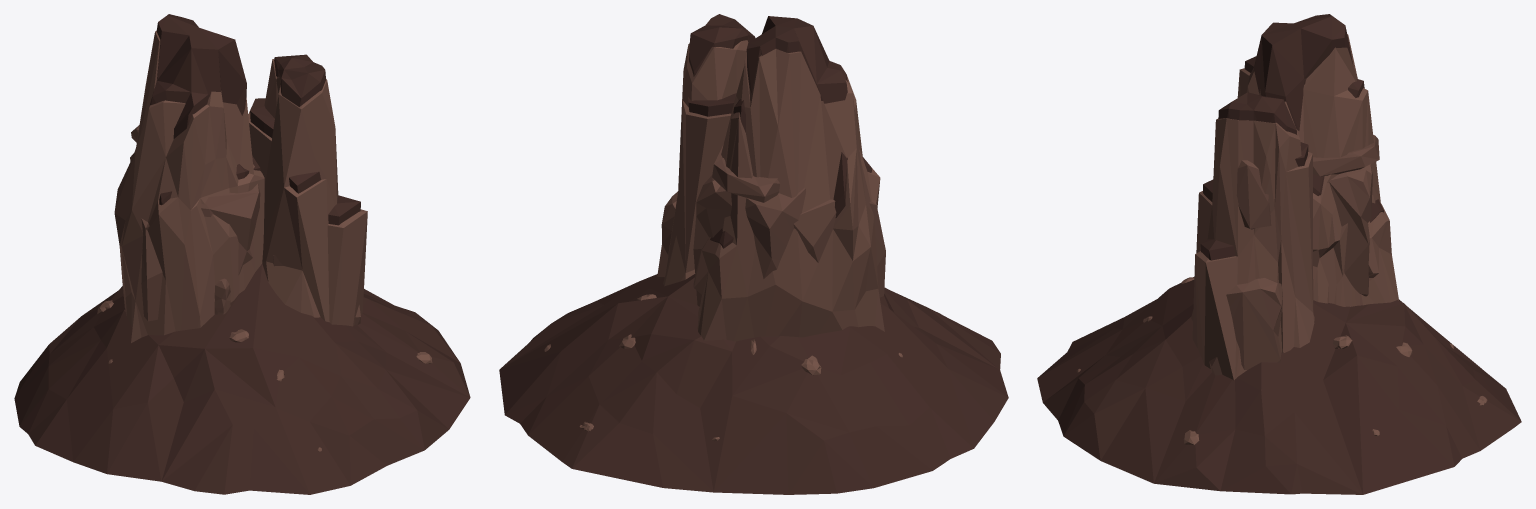
File: Brown_crag_001.fbx
The picture shows the model from 3 angles, left to right: view 1: azimuth 30°, elevation 25°; view 2: azimuth 150°, elevation 25°; view 3: azimuth 270°, elevation 25°; orthographic projection. The views are drawn at different scales.
Visible parts, largest first — view 1: Brown_crag_001; view 2: Brown_crag_001; view 3: Brown_crag_001.
Boxes of the visible parts, <box> form: Brown_crag_001: <box>14,14,470,494</box>; Brown_crag_001: <box>499,14,1008,494</box>; Brown_crag_001: <box>1037,14,1521,494</box>.
Bounding box in the file's own units: 7070 × 7303 × 6174.
